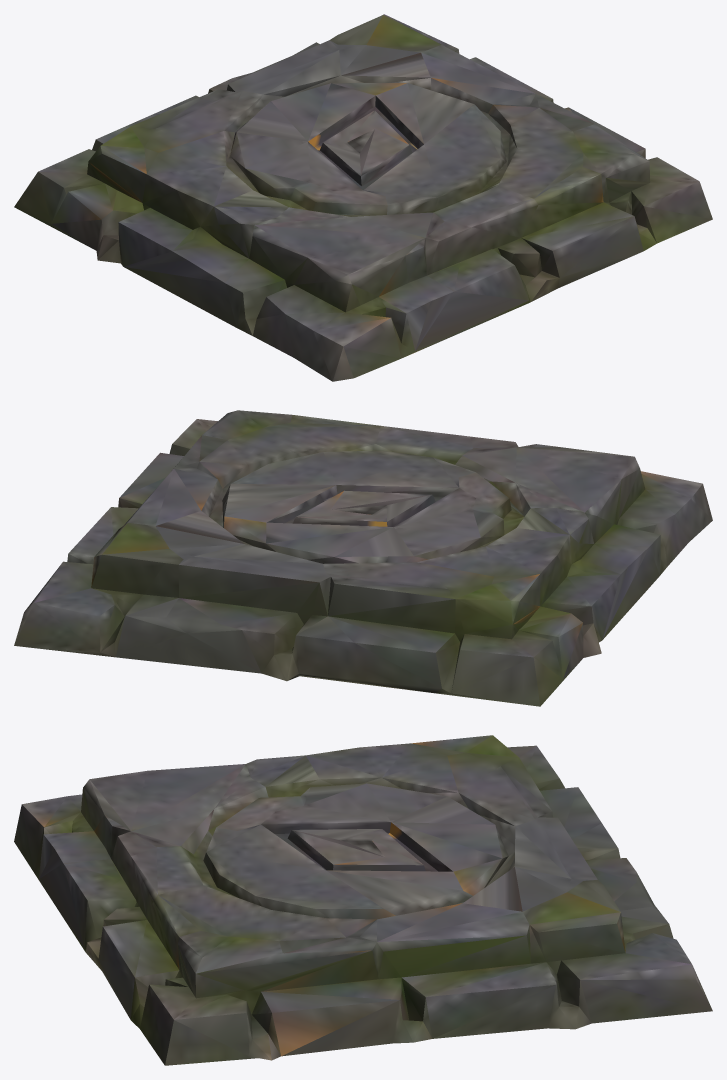
File: placa_presion_cueva_600.glb
3 views of the same model, one above another, from view 1: azimuth 30°, elevation 25°; view 2: azimuth 150°, elevation 25°; view 3: azimuth 270°, elevation 25° (orthographic). The views are drawn at different scales.
Visible parts, largest first — view 1: placa_presion_cueva_malla; view 2: placa_presion_cueva_malla; view 3: placa_presion_cueva_malla.
Part boxes in pixels (<box>): placa_presion_cueva_malla: <box>14,14,712,381</box>; placa_presion_cueva_malla: <box>14,410,712,706</box>; placa_presion_cueva_malla: <box>14,735,712,1065</box>.
Bounding box in the file's own units: 0.4722 × 0.076 × 0.5026.
1 material, 1 textured.
